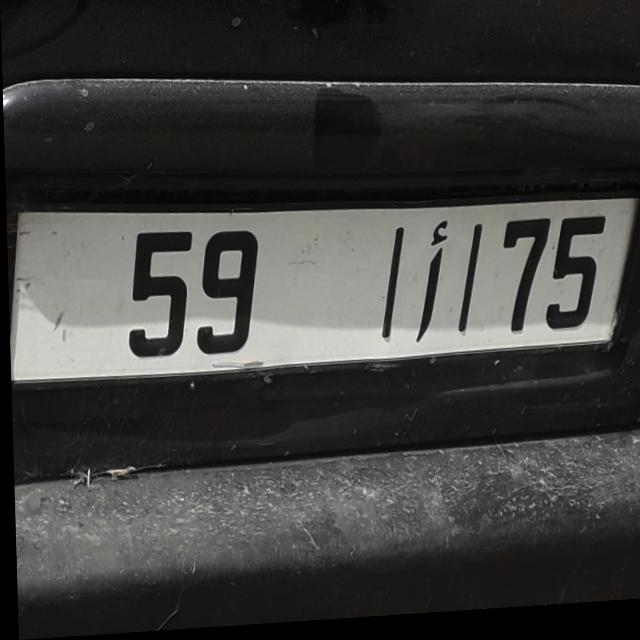License-Plate: (8, 206, 636, 383)
